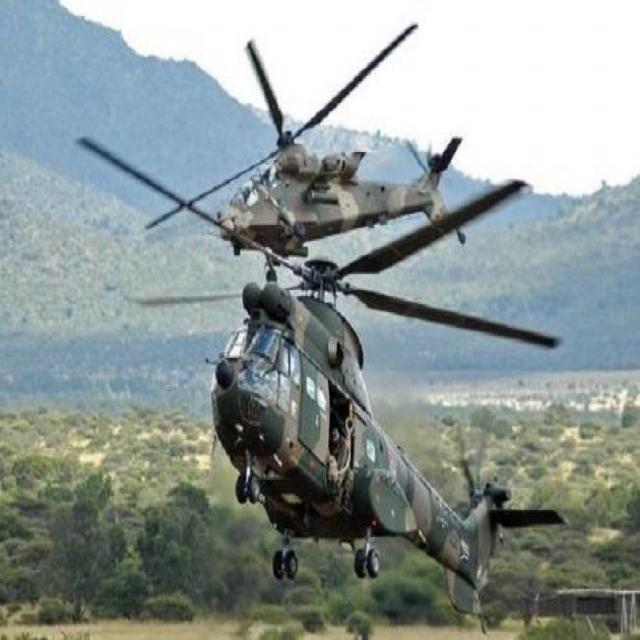MIL_HELO: (72, 129, 574, 600), (134, 22, 470, 246)
